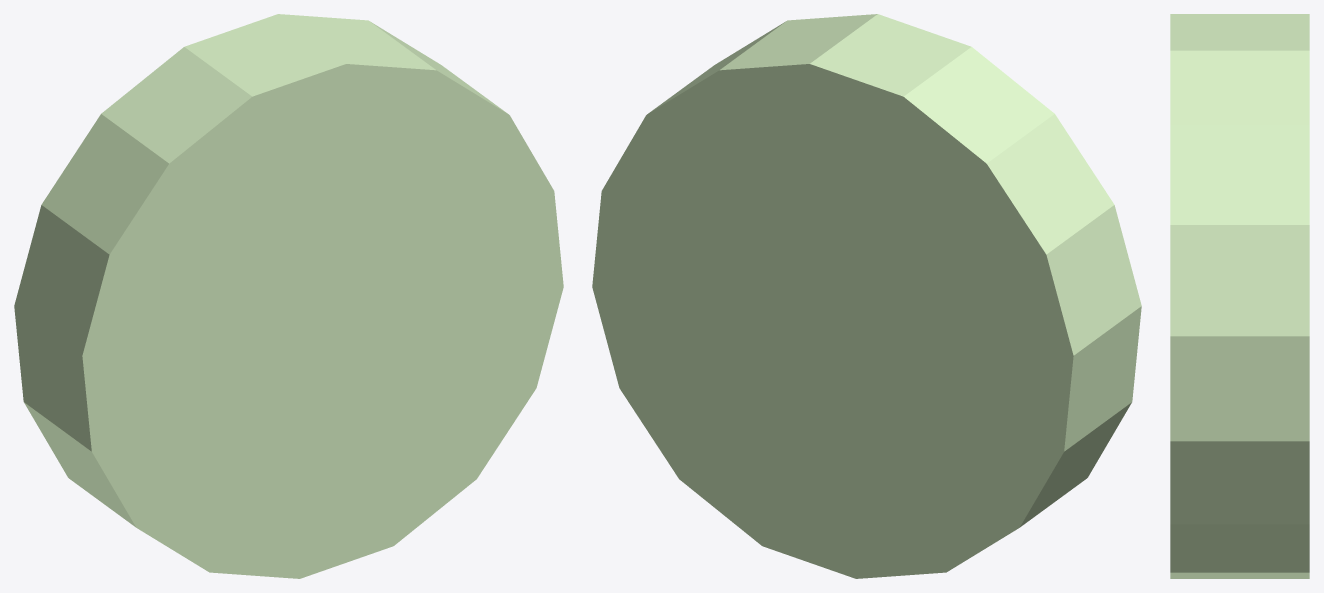
File: kuka_link4_resp_coll_2.dae
3 views of the same model, side by side, from view 1: azimuth 30°, elevation 25°; view 2: azimuth 150°, elevation 25°; view 3: azimuth 270°, elevation 25° (orthographic). The views are drawn at different scales.
Parts seen in each view (by area): view 1: Node_0000015C5C914970; view 2: Node_0000015C5C914970; view 3: Node_0000015C5C914970.
Part boxes in pixels (box(x1,y1,x2,y2)): Node_0000015C5C914970: box(14, 14, 563, 578); Node_0000015C5C914970: box(592, 14, 1141, 578); Node_0000015C5C914970: box(1170, 14, 1309, 578).
Size of the model in its own units: 0.1346 by 0.1346 by 0.033.
